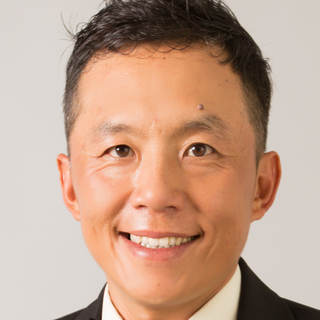eye: (176, 136, 222, 163), (97, 139, 141, 164)
